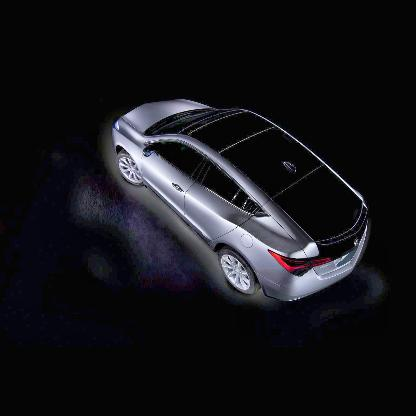Acura ZDX Hatchback 2012: (111, 97, 369, 308)
